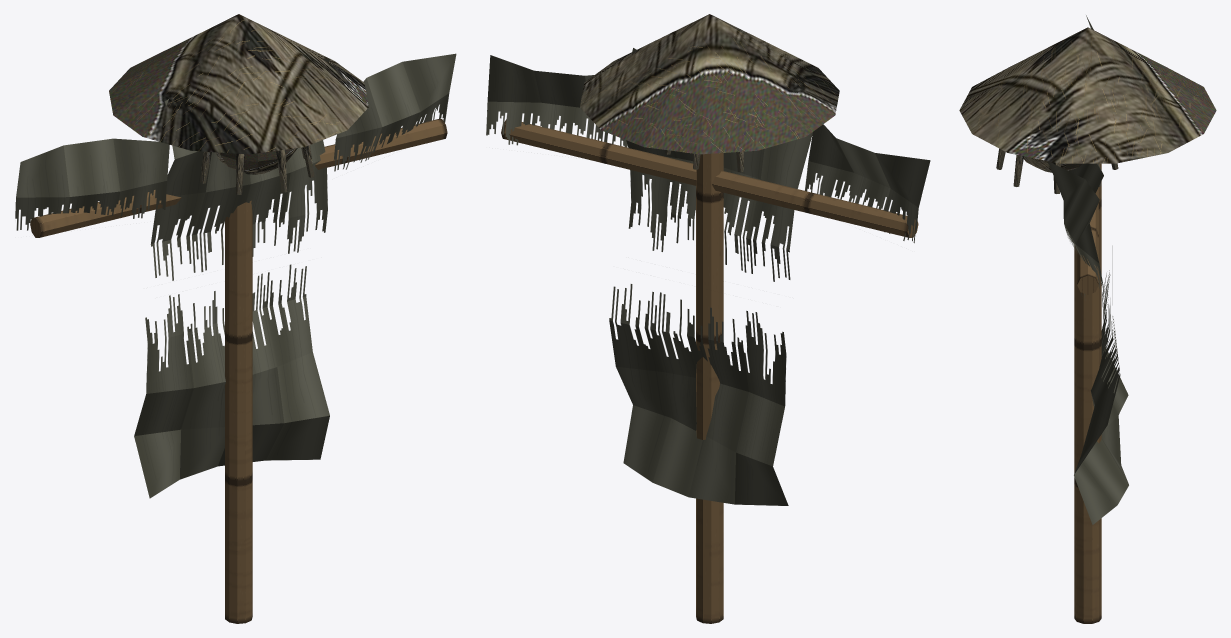
File: dong-lua-bu-nhin-rom.glb
3 renders of one model, left to right at view 1: azimuth 30°, elevation 25°; view 2: azimuth 150°, elevation 25°; view 3: azimuth 270°, elevation 25°, orthographic. The views are drawn at different scales.
Visible parts, largest first — view 1: dong-lua-bu-nhin-rom; view 2: dong-lua-bu-nhin-rom; view 3: dong-lua-bu-nhin-rom.
Part boxes in pixels (<box>): dong-lua-bu-nhin-rom: <box>15,14,456,623</box>; dong-lua-bu-nhin-rom: <box>486,14,930,623</box>; dong-lua-bu-nhin-rom: <box>959,15,1216,623</box>.
Bounding box in the file's own units: 1.62 × 2.13 × 0.84.
Materials: 4 (4 with a texture image).
